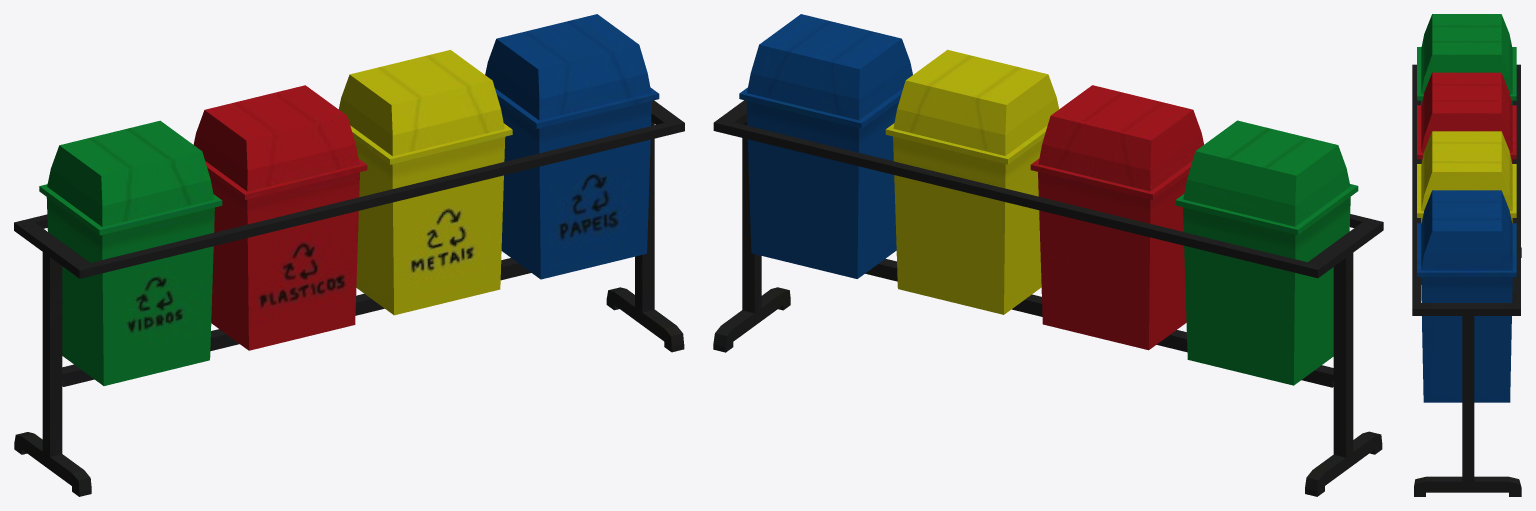
The model's file is lixeiraecologica.fbx.
3 views of the same model, side by side, from view 1: azimuth 30°, elevation 25°; view 2: azimuth 150°, elevation 25°; view 3: azimuth 270°, elevation 25° (orthographic). The views are drawn at different scales.
Parts seen in each view (by area): view 1: LixeiraParque; view 2: LixeiraParque; view 3: LixeiraParque.
Part boxes in pixels (x1=…): LixeiraParque: x1=14, y1=14, x2=684, y2=496; LixeiraParque: x1=713, y1=14, x2=1383, y2=496; LixeiraParque: x1=1412, y1=14, x2=1521, y2=496.
Bounding box in the file's own units: 159 × 76.66 × 30.07.
